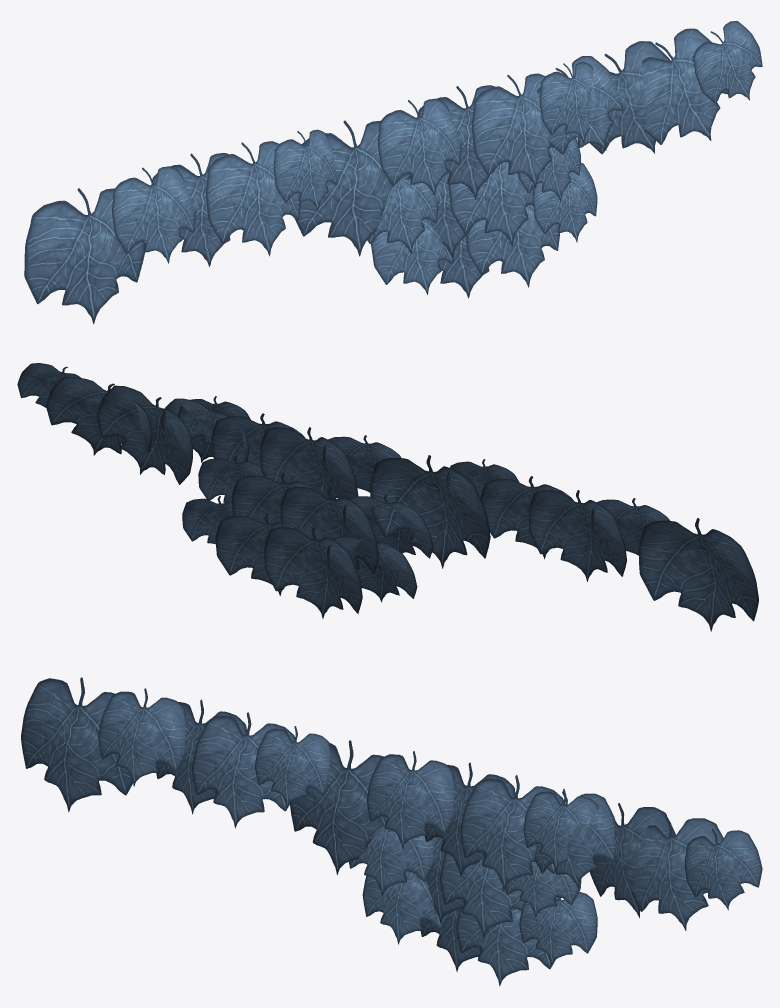
File: MarshVineBunch_a01.fbx
3 views of the same model, one above another, from view 1: azimuth 30°, elevation 25°; view 2: azimuth 150°, elevation 25°; view 3: azimuth 330°, elevation 25° (orthographic).
Visible parts, largest first — view 1: VineBunch_a01; view 2: VineBunch_a01; view 3: VineBunch_a01.
Boxes of the visible parts, left/top/right/bottom form: VineBunch_a01: left=24, top=21, right=762, bottom=323; VineBunch_a01: left=17, top=363, right=758, bottom=631; VineBunch_a01: left=21, top=677, right=762, bottom=986.
Size of the model in its own units: 440 by 121 by 34.55.
